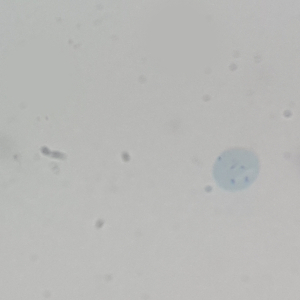punctate reticulocyte: (211, 146, 261, 192)
